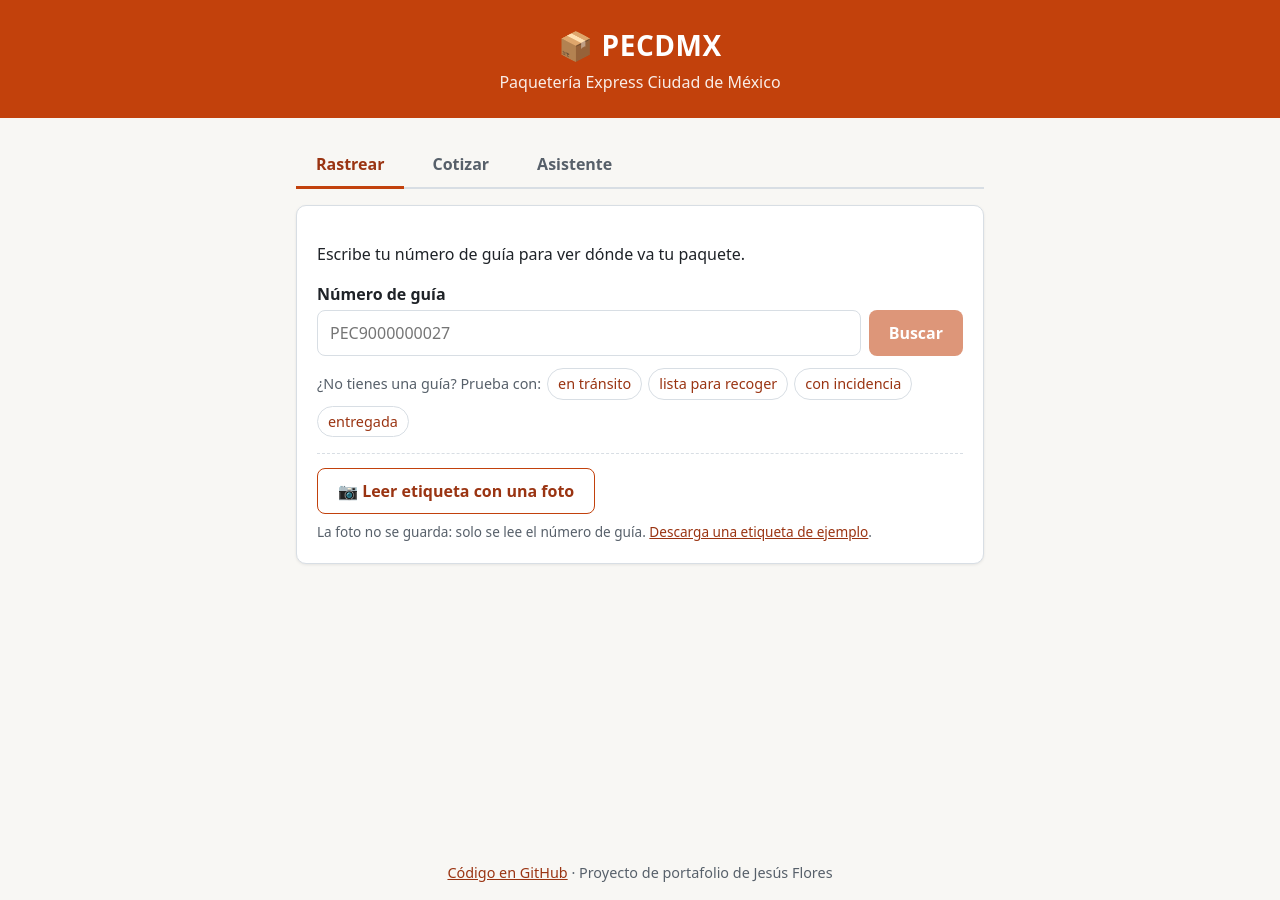
Test: App › al hacer clic en Cotizar cambia la pestaña y su contenido
Click the tab "Cotizar" at (461, 166), box [412,142,509,189]
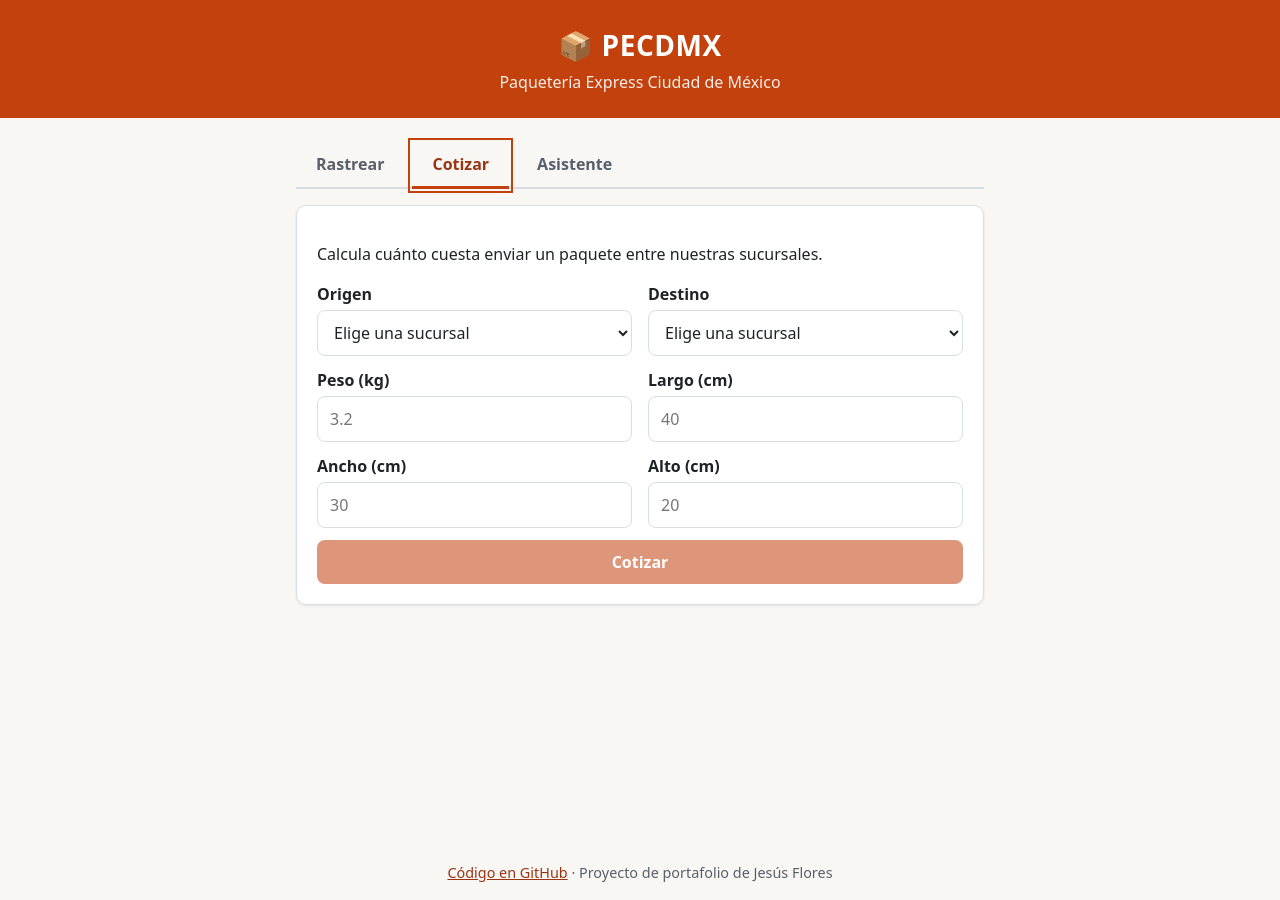
Expected: the panel shows "cuánto cuesta enviar", [317,243,823,265]
